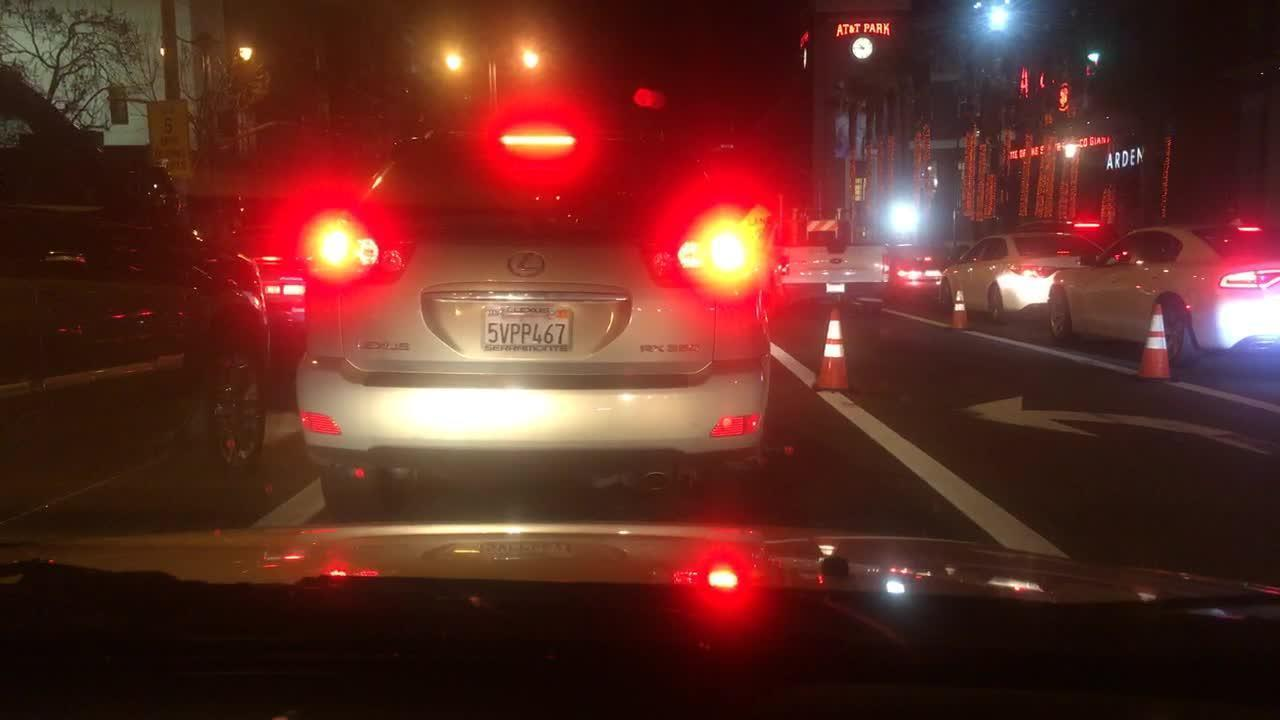lexus: (501, 243, 559, 295)
